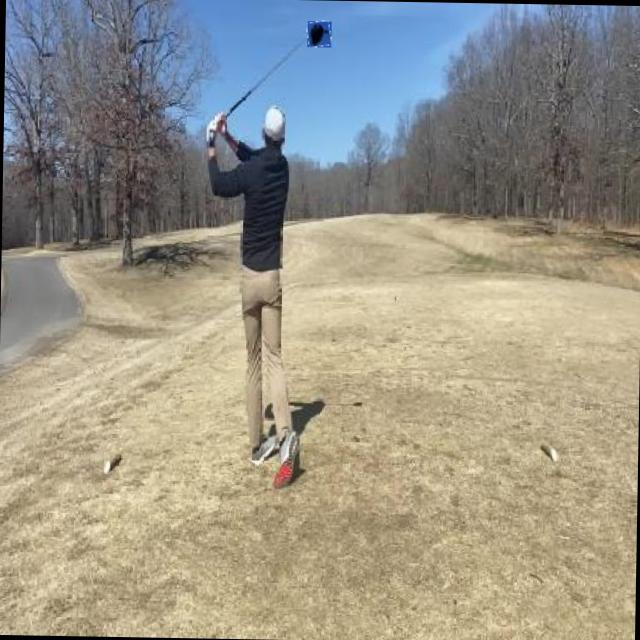club head: (307, 21, 331, 47)
